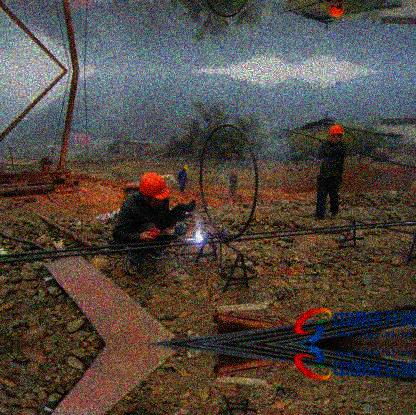helmet: (139, 171, 170, 208), (328, 123, 345, 145)
